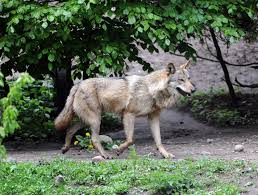wolf: (63, 57, 193, 161)
